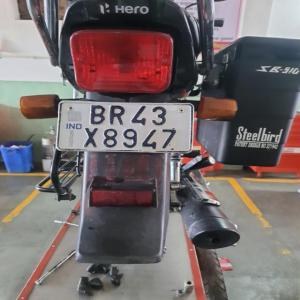Plate: (55, 105, 193, 156)
